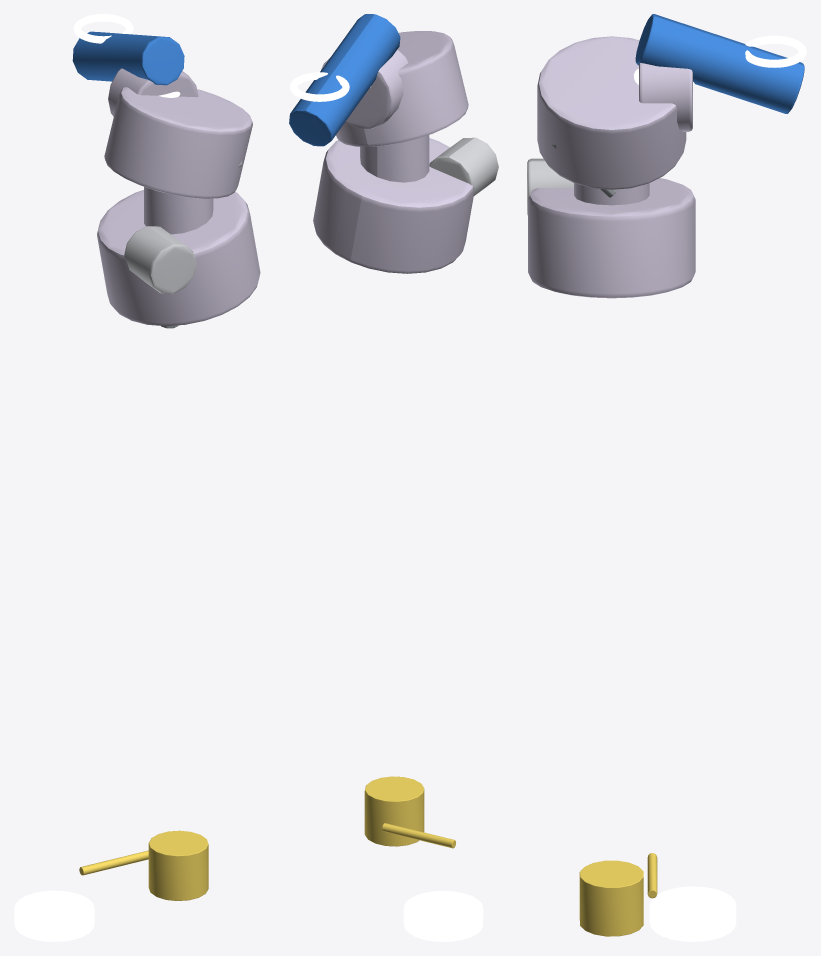
Rendered from engine_v8_turbo_r.glb.
3 renders of one model, left to right at view 1: azimuth 30°, elevation 25°; view 2: azimuth 150°, elevation 25°; view 3: azimuth 270°, elevation 25°, orthographic. The views are drawn at different scales.
Parts seen in each view (by area): view 1: Engine_V8_Turbo_R, GEO_V8Turbo_WastegateActuator, GEO_V8Turbo_BilletImpeller; view 2: Engine_V8_Turbo_R, GEO_V8Turbo_WastegateActuator, GEO_V8Turbo_BilletImpeller; view 3: Engine_V8_Turbo_R, GEO_V8Turbo_WastegateActuator, GEO_V8Turbo_BilletImpeller.
Part boxes in pixels (box(x1,y1,x2,y2)): Engine_V8_Turbo_R: box(72, 14, 260, 328); GEO_V8Turbo_WastegateActuator: box(79, 830, 208, 900); GEO_V8Turbo_BilletImpeller: box(14, 890, 94, 941); Engine_V8_Turbo_R: box(289, 14, 498, 273); GEO_V8Turbo_WastegateActuator: box(364, 776, 455, 848); GEO_V8Turbo_BilletImpeller: box(403, 890, 483, 941); Engine_V8_Turbo_R: box(527, 14, 806, 298); GEO_V8Turbo_WastegateActuator: box(579, 853, 657, 936); GEO_V8Turbo_BilletImpeller: box(649, 886, 736, 941).
Size of the model in its own units: 0.1778 by 0.7766 by 0.2065.
